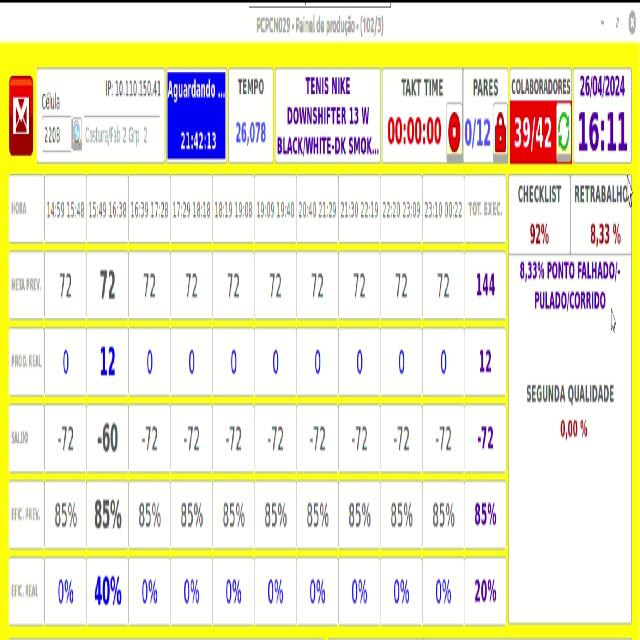takt_time: (384, 76, 447, 149)
